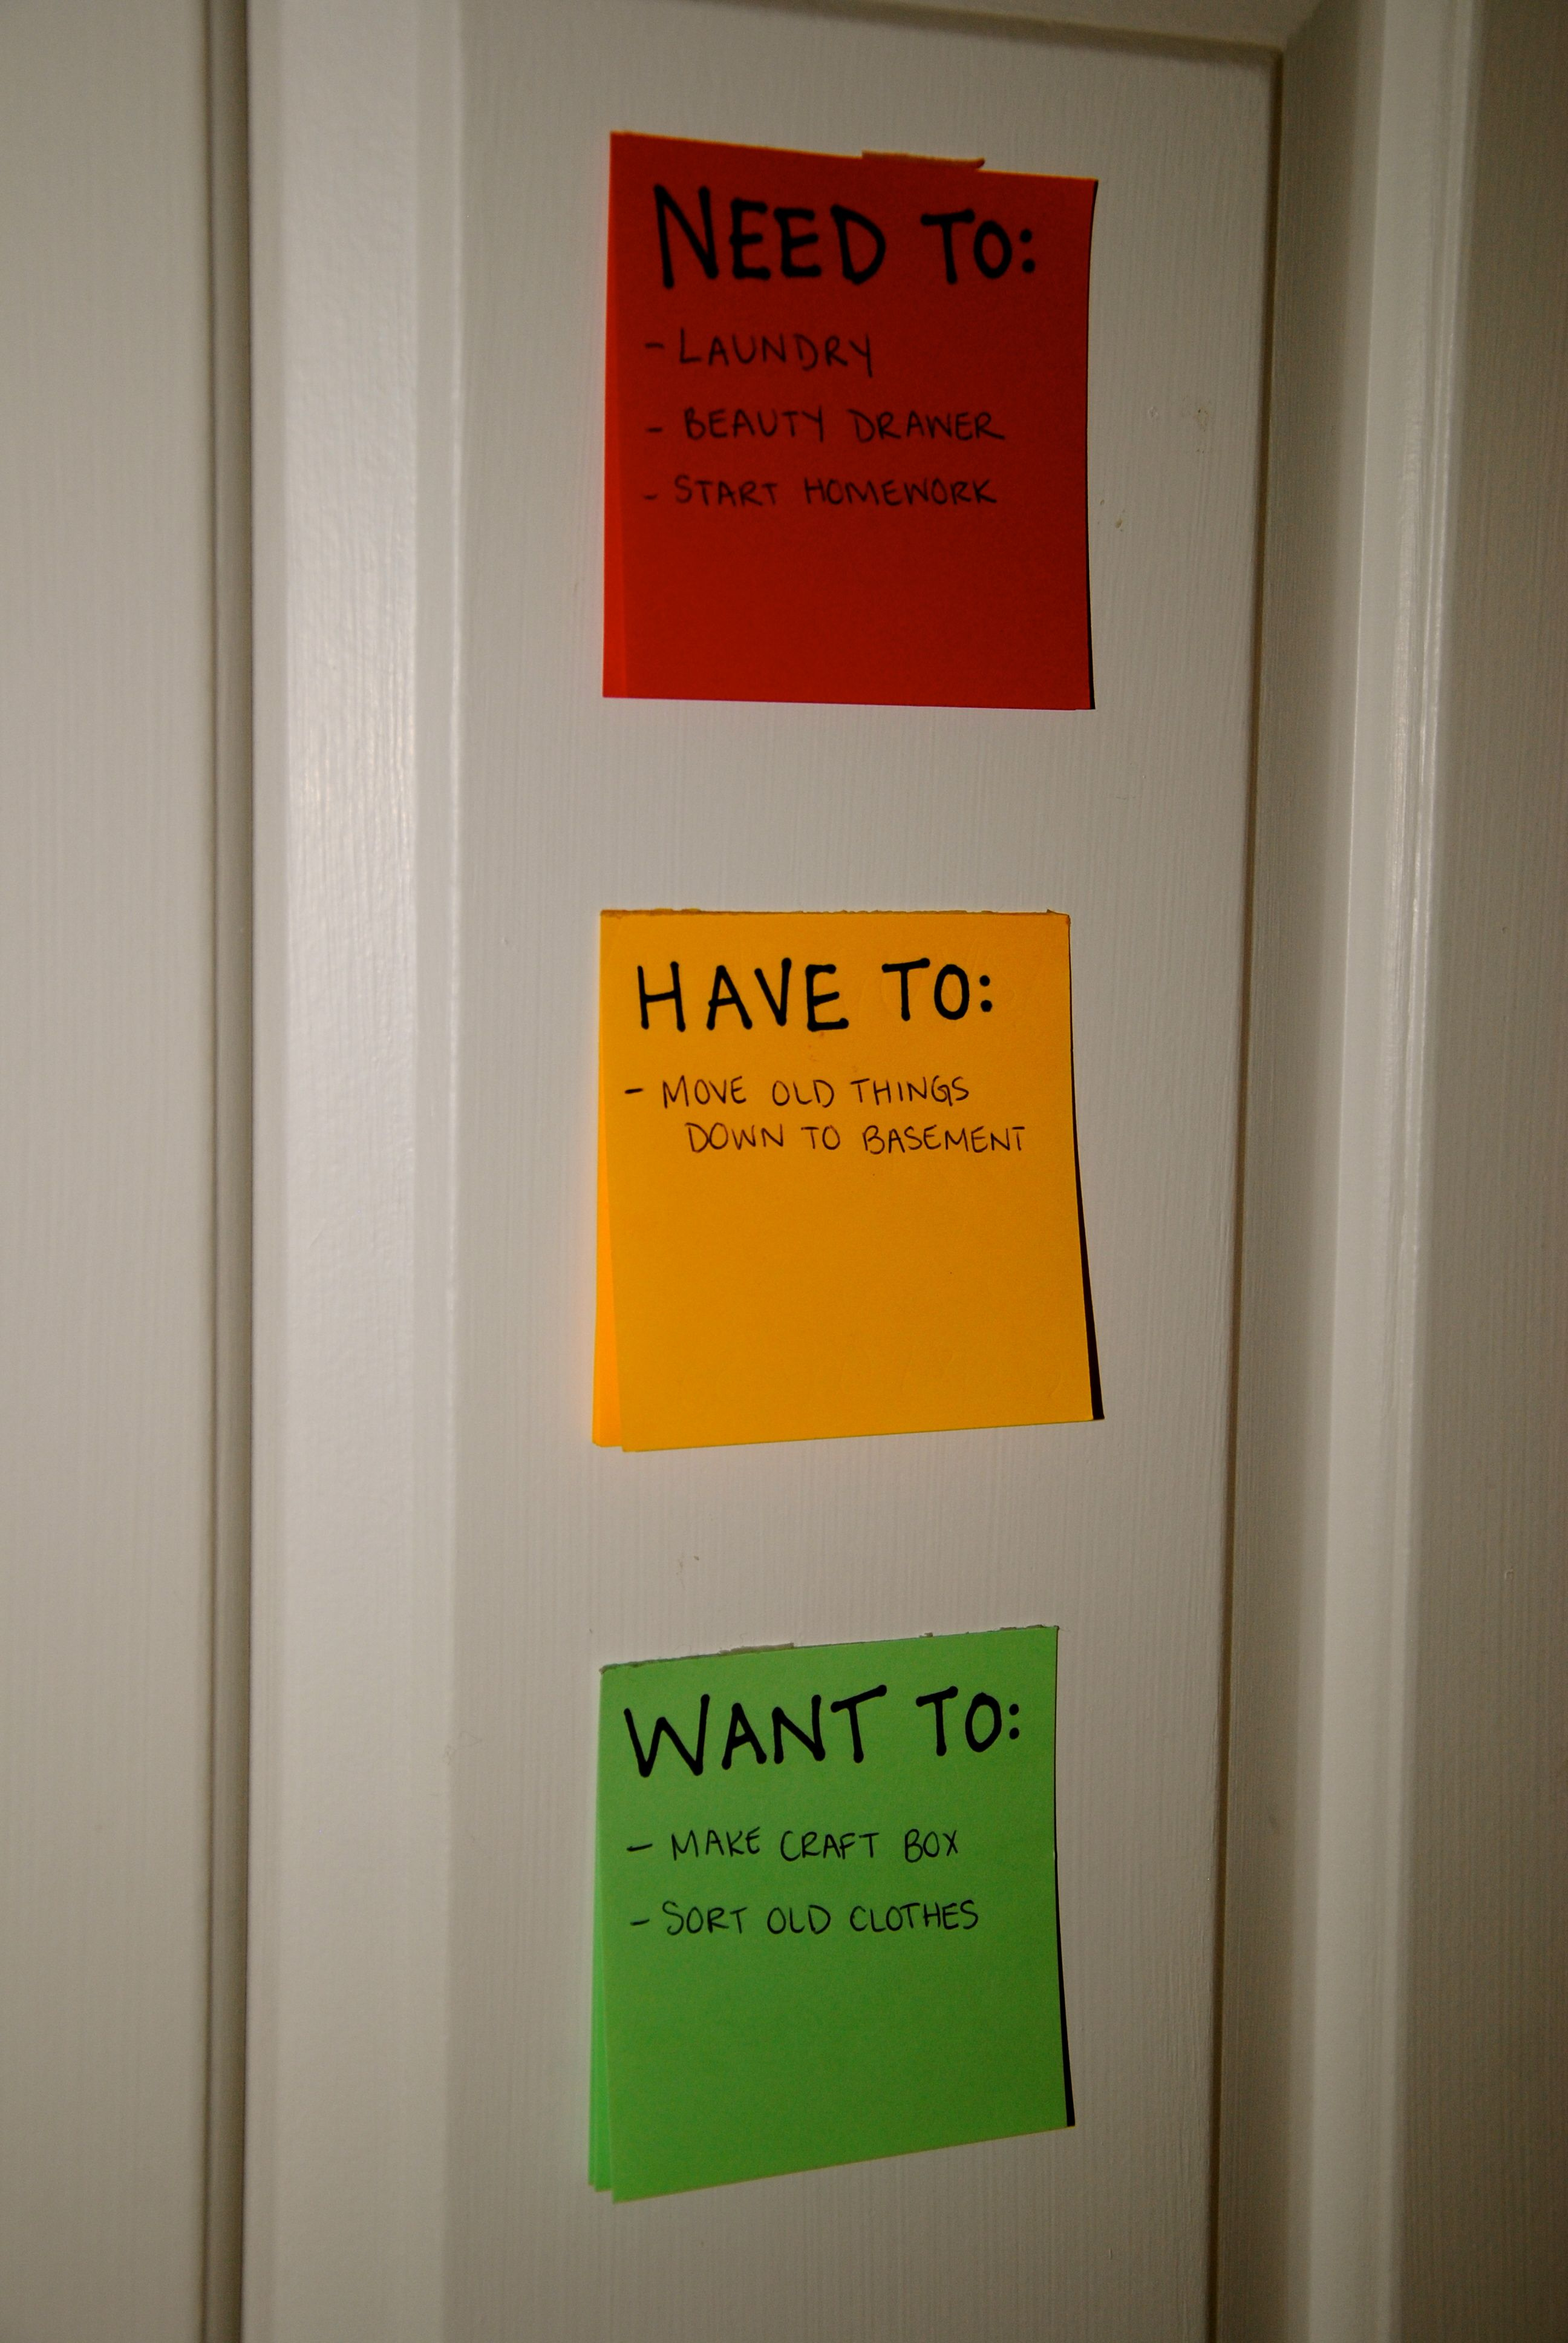Note: (604, 910, 1125, 1456), (609, 145, 1092, 709), (584, 1654, 1083, 2191)
